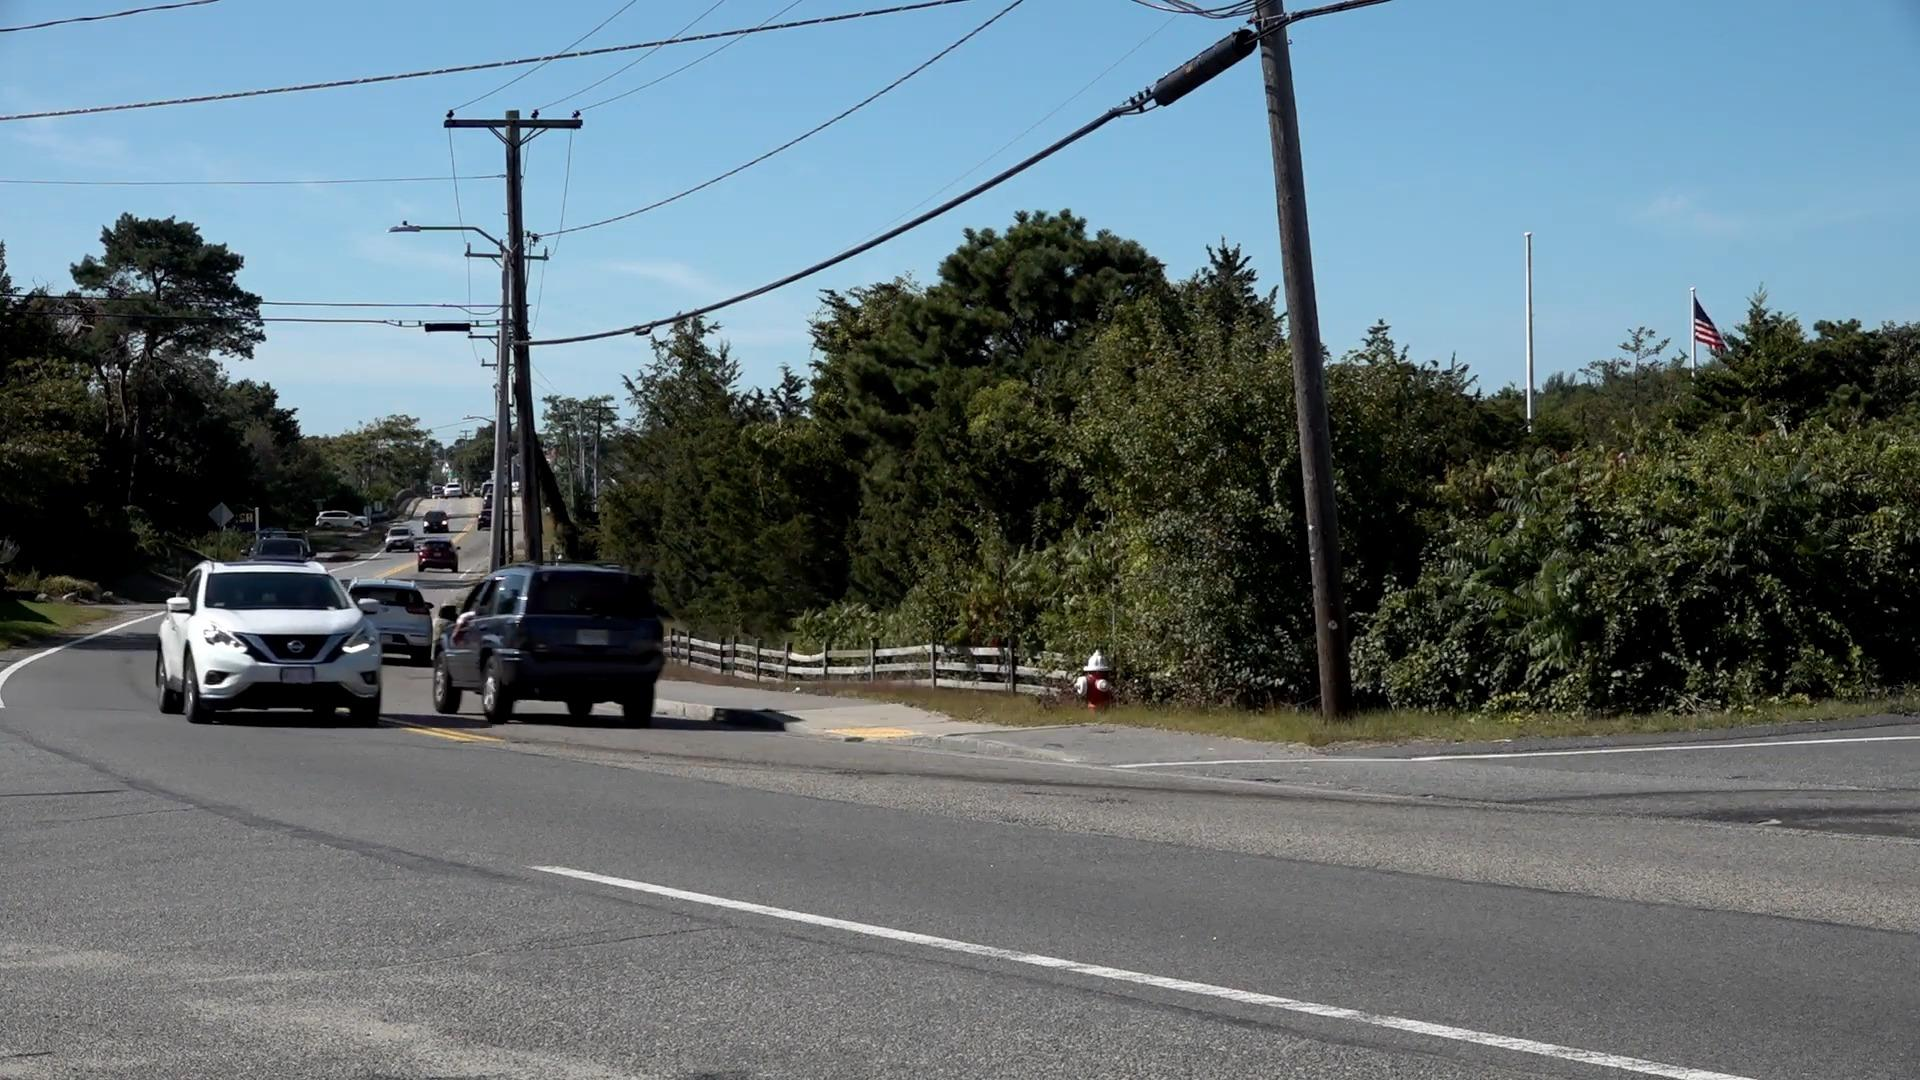suv: (433, 562, 669, 731), (157, 563, 386, 719), (382, 576, 433, 661)
